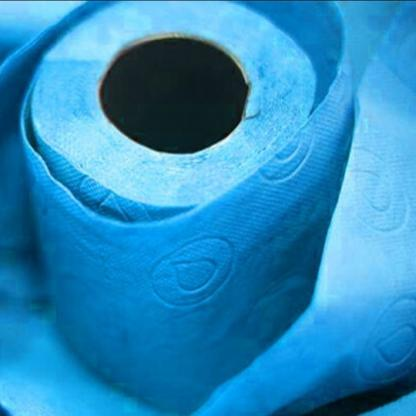tissue: (16, 8, 353, 382)
